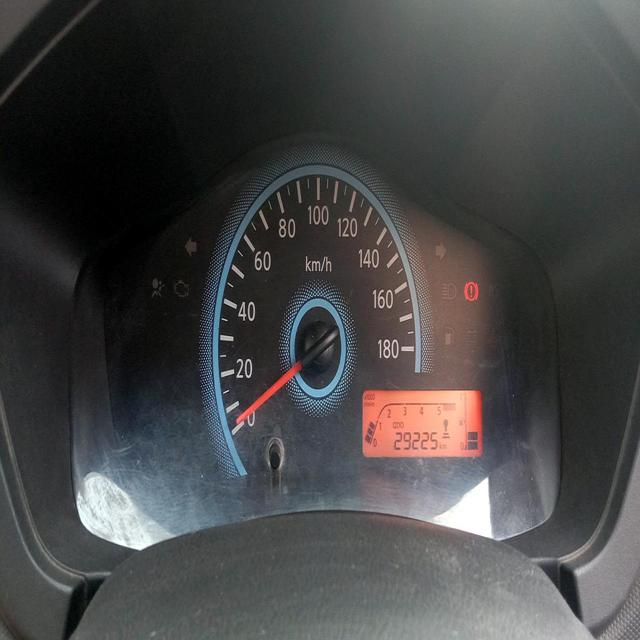odometer: (394, 425, 440, 456)
